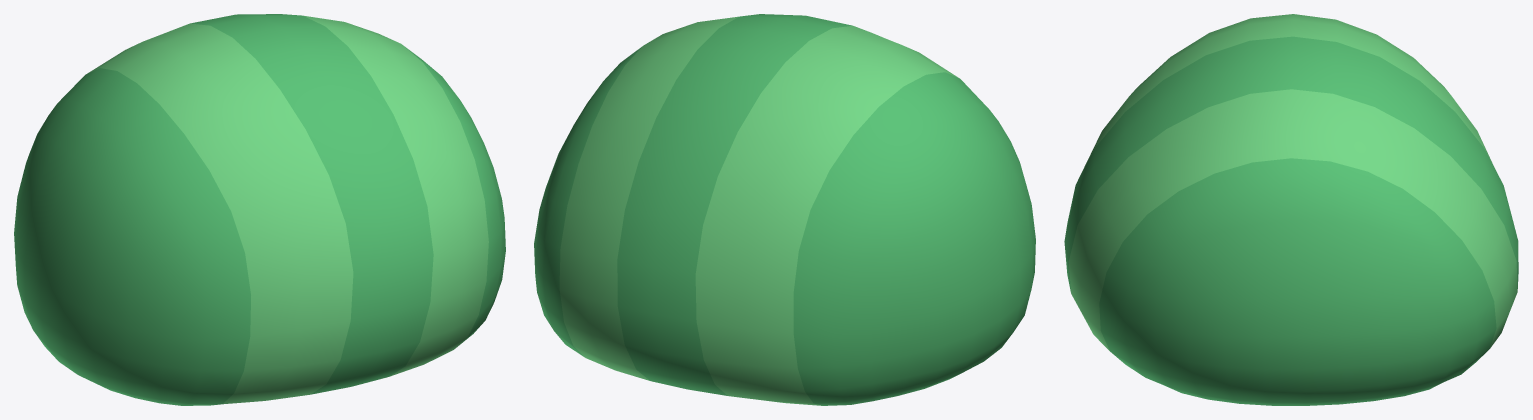
The model's file is Bush_E_01.fbx.
3 views of the same model, side by side, from view 1: azimuth 30°, elevation 25°; view 2: azimuth 150°, elevation 25°; view 3: azimuth 270°, elevation 25° (orthographic). The views are drawn at different scales.
Visible parts, largest first — view 1: Bush_E_01_LOD0; view 2: Bush_E_01_LOD0; view 3: Bush_E_01_LOD0.
Boxes of the visible parts, <box> form: Bush_E_01_LOD0: <box>14,14,505,405</box>; Bush_E_01_LOD0: <box>534,14,1035,405</box>; Bush_E_01_LOD0: <box>1064,14,1518,405</box>.
Size of what is drawn, in the model's own units: 578 by 390 by 559.
